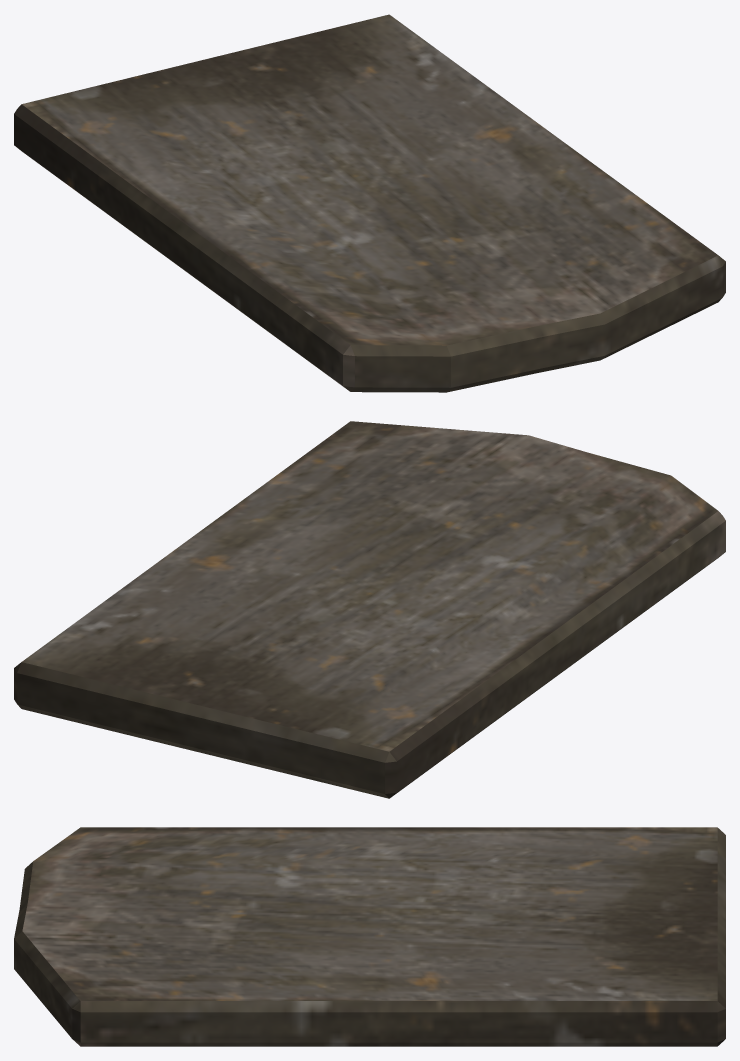
Rendered from ShingleB.fbx.
3 renders of one model, top to bottom at view 1: azimuth 30°, elevation 25°; view 2: azimuth 150°, elevation 25°; view 3: azimuth 270°, elevation 25°, orthographic. The views are drawn at different scales.
Visible parts, largest first — view 1: Shingle_LOD0; view 2: Shingle_LOD0; view 3: Shingle_LOD0.
Boxes of the visible parts, left/top/right/bottom form: Shingle_LOD0: left=14, top=14, right=725, bottom=392; Shingle_LOD0: left=14, top=421, right=725, bottom=798; Shingle_LOD0: left=14, top=827, right=725, bottom=1046.
Size of what is drawn, in the model's own units: 34.55 by 4.05 by 57.47.
